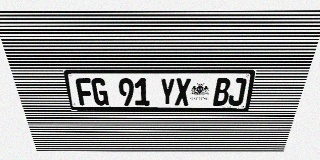1: (134, 78, 150, 105)
9: (118, 78, 135, 105)
B: (213, 78, 231, 105)
F: (75, 78, 94, 105)
G: (91, 78, 109, 105)
J: (228, 78, 247, 105)
X: (175, 78, 191, 105)
Y: (160, 78, 175, 105)
